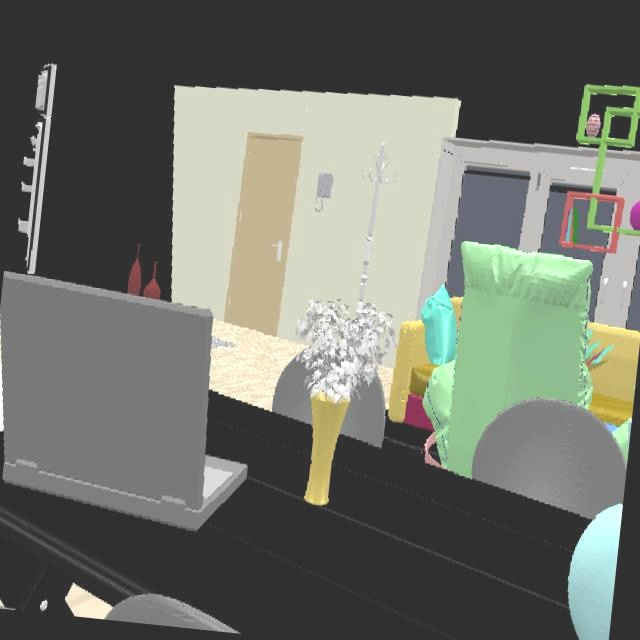chair: (472, 400, 625, 517), (340, 378, 390, 445), (272, 358, 311, 422)
laptop: (0, 272, 246, 528)
pillow: (421, 286, 458, 364)
sofa: (423, 242, 592, 475), (618, 424, 630, 456)
table: (0, 393, 587, 640)
